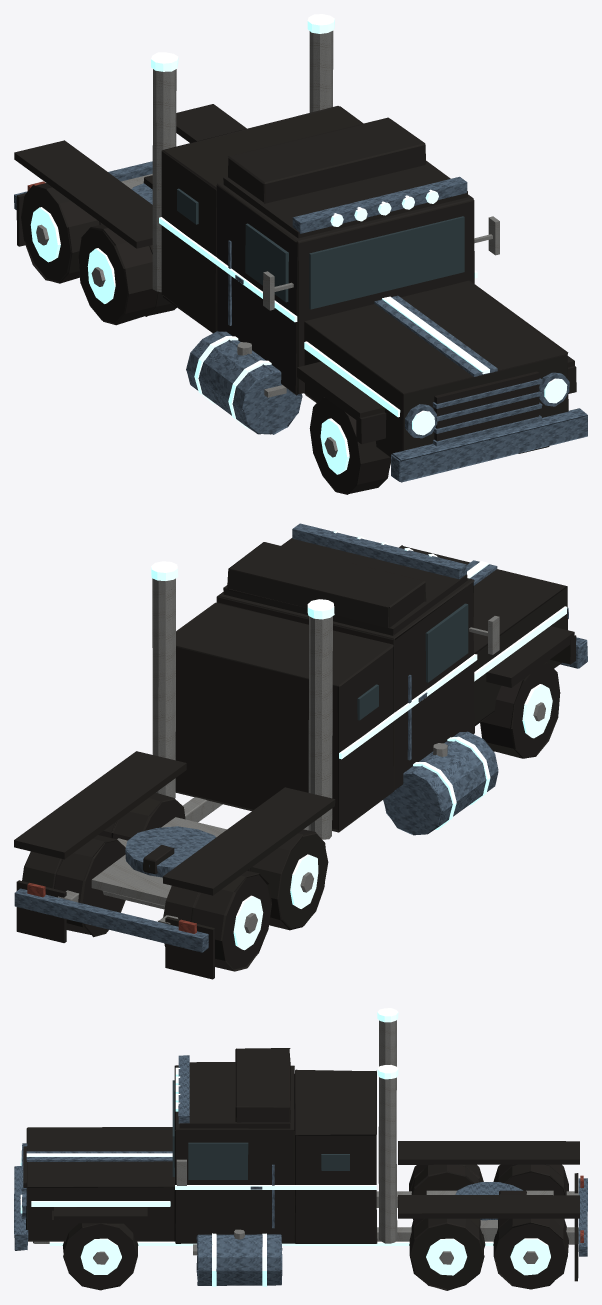
Rendered from starlight_hauler.glb.
3 renders of one model, top to bottom at view 1: azimuth 30°, elevation 25°; view 2: azimuth 150°, elevation 25°; view 3: azimuth 270°, elevation 25°, orthographic. The views are drawn at different scales.
Parts seen in each view (by area): view 1: StarlightHauler; view 2: StarlightHauler; view 3: StarlightHauler.
Part boxes in pixels (left/top/right/bottom): StarlightHauler: left=14, top=14, right=587, bottom=494; StarlightHauler: left=14, top=523, right=587, bottom=979; StarlightHauler: left=14, top=1008, right=587, bottom=1290.
Size of the model in its own units: 2.75 by 2.92 by 7.08.
6 materials, 3 textured.
